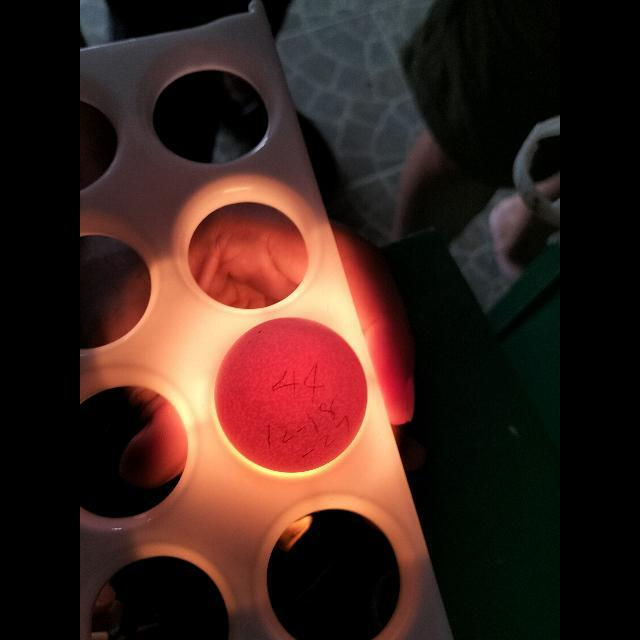Infertile: (215, 314, 365, 474)
